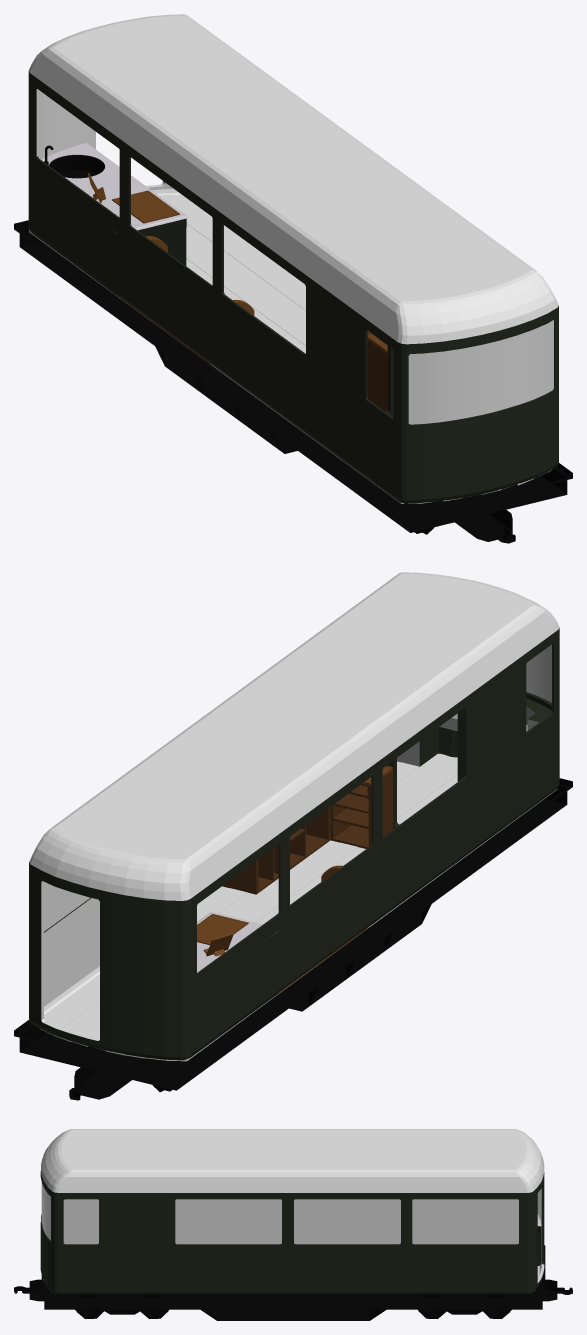
The model's file is TrainTest 2.fbx.
3 views of the same model, one above another, from view 1: azimuth 30°, elevation 25°; view 2: azimuth 150°, elevation 25°; view 3: azimuth 270°, elevation 25° (orthographic). The views are drawn at different scales.
Visible parts, largest first — view 1: Cube.052, train-wagon-cargo-base, Plane.496, Cube.071, Cube.053, Plane.512, Plane.510, Plane.511, Cube.060, Plane.514, Plane.513, Plane.509; view 2: Cube.052, train-wagon-cargo-base, Cube.060, Plane.510, Plane.511, Cube.050, Plane.512, Plane.509, Plane.489, Plane.496, Plane.514, Cube.071 (+1 smaller); view 3: Cube.052, train-wagon-cargo-base, Plane.488, Plane.489, Plane.490, Plane.494, Plane.496, train-wagon-cargo-wheel_B1, train-wagon-cargo-wheel_B2, train-wagon-cargo-wheel_F2, train-wagon-cargo-wheel_F1.
Boxes of the visible parts, x1,y1,x2,y2 form: Cube.052: (28,14,558,503); train-wagon-cargo-base: (14,220,572,543); Plane.496: (408,320,553,424); Cube.071: (41,143,187,233); Cube.053: (32,155,186,297); Plane.512: (159,194,544,478); Plane.510: (186,241,505,489); Plane.511: (186,224,533,485); Cube.060: (367,330,387,411); Plane.514: (112,190,179,223); Plane.513: (172,194,551,472); Plane.509: (186,259,500,494); Cube.052: (29,572,559,1060); train-wagon-cargo-base: (14,778,572,1100); Cube.060: (222,770,393,894); Plane.510: (71,757,457,1046); Plane.511: (54,753,455,1041); Cube.050: (397,698,551,766); Plane.512: (40,762,419,1035); Plane.509: (97,775,457,1050); Plane.489: (44,882,89,931); Plane.496: (526,644,551,702); Plane.514: (197,914,248,944); Cube.071: (197,912,276,972); Cube.052: (40,1129,544,1294); train-wagon-cargo-base: (14,1245,572,1320); Plane.488: (294,1199,400,1244); Plane.489: (412,1199,518,1244); Plane.490: (175,1199,281,1244); Plane.494: (63,1199,98,1244); Plane.496: (41,1182,50,1240); train-wagon-cargo-wheel_B1: (418,1294,446,1318); train-wagon-cargo-wheel_B2: (483,1294,511,1318); train-wagon-cargo-wheel_F2: (140,1294,168,1318); train-wagon-cargo-wheel_F1: (75,1294,103,1318).
Bounding box in the file's own units: 903 × 1309 × 4182.
